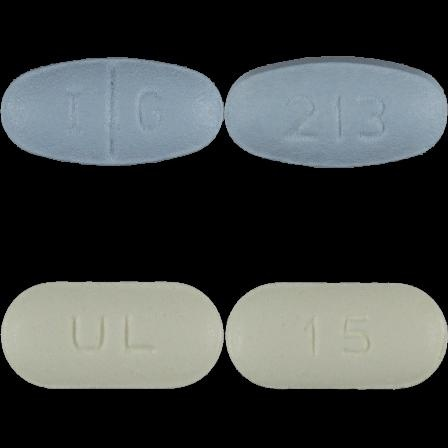16590-457: (0, 0, 224, 224)
